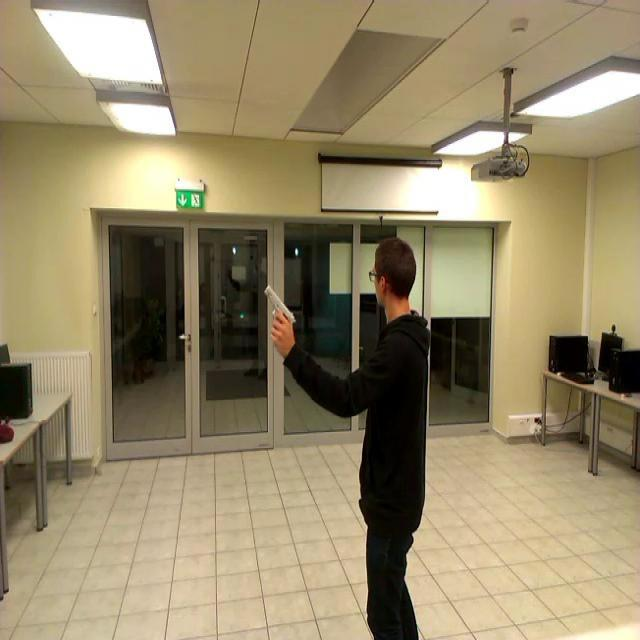weapon: (262, 286, 296, 334)
